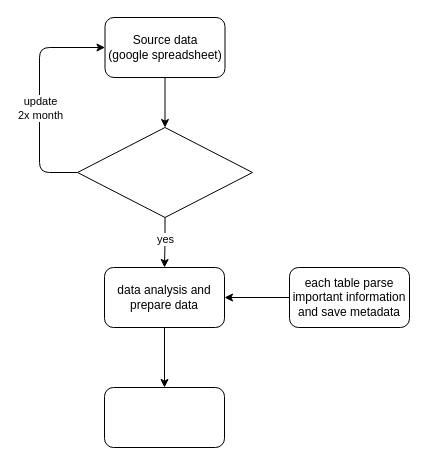
Image size: 427x465. Some labels were removed from this diagram. Each missing label, with the centre of its shape:
create data model and save in database: (164,417)
grab or download (xlsx) tables: (164,172)
